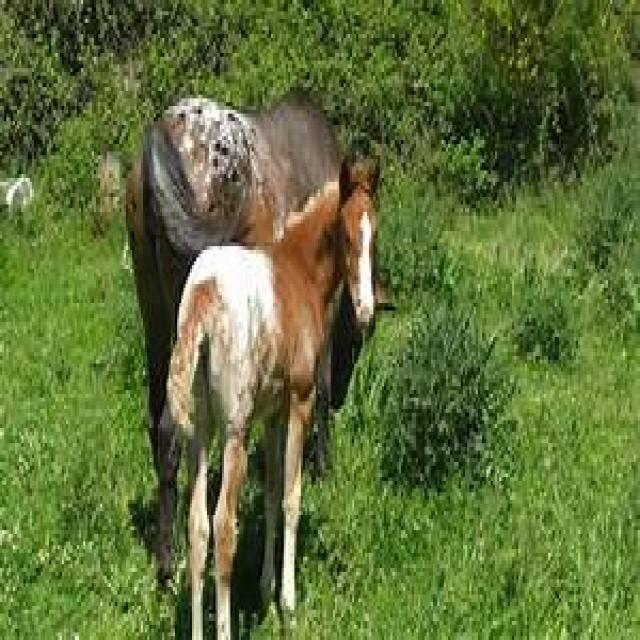horse: (151, 163, 380, 640), (134, 91, 343, 538)
